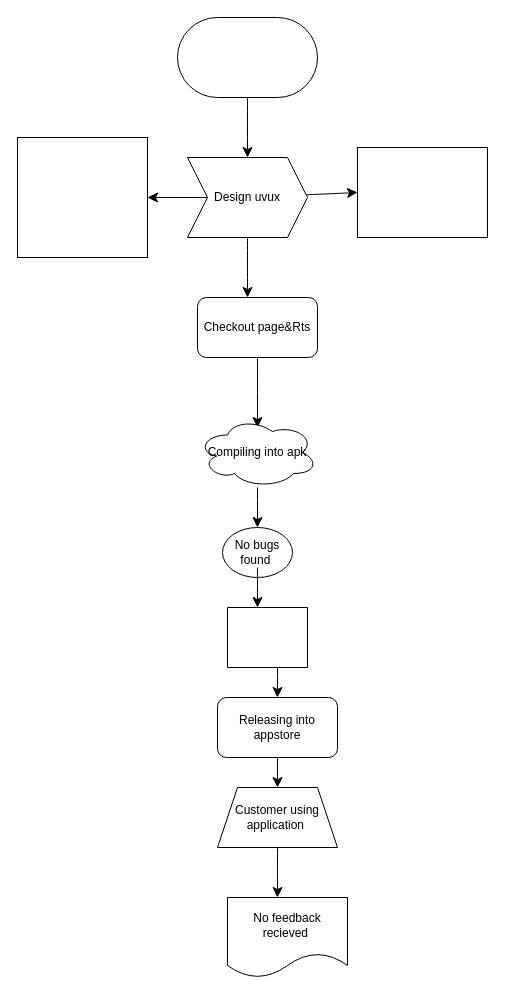
Some shapes in this 505 by 995 pixel diagram are drawn without their labels. The shapes that lost their labels are listed below. From the top down, each one's centre as x and y in pixels, then its label:
(x=247, y=57): Zk eats
(x=82, y=197): Customer signup/signin page
(x=422, y=192): Listing of restaurants&thei cusines
(x=267, y=637): Writing permissions for deployment
